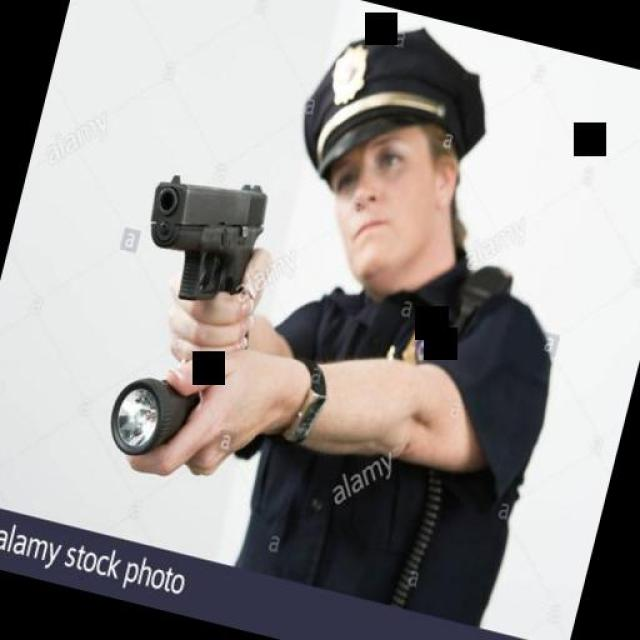gun: (130, 160, 275, 315)
